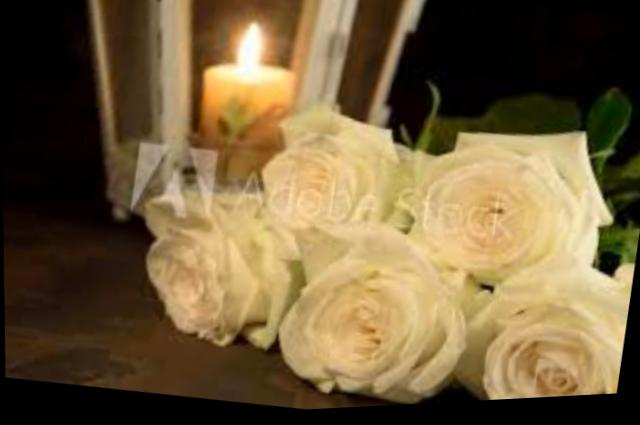fire: (229, 17, 267, 74)
